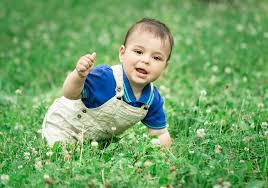child: (31, 13, 187, 154)
